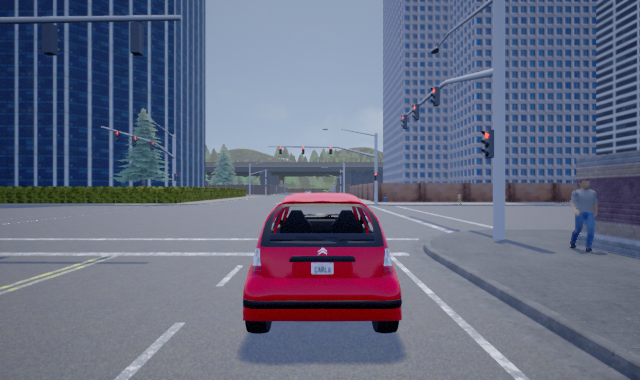pedestrian: (568, 177, 598, 252)
vehicle: (242, 192, 401, 334)
